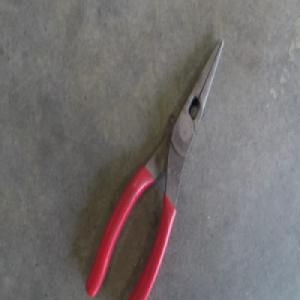Pliers: (79, 36, 224, 299)
